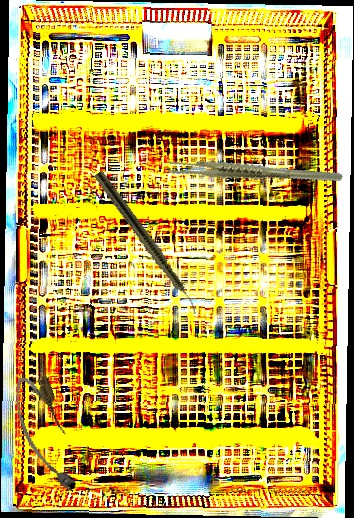Cannula: (6, 369, 85, 500)
Handpiece: (91, 169, 204, 317)
Tissue Forceps: (164, 130, 344, 215)
